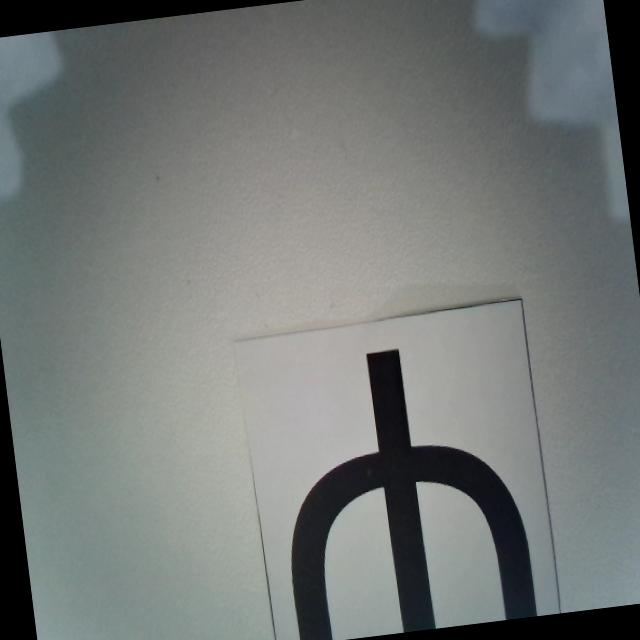nedoF: (263, 331, 538, 640)
